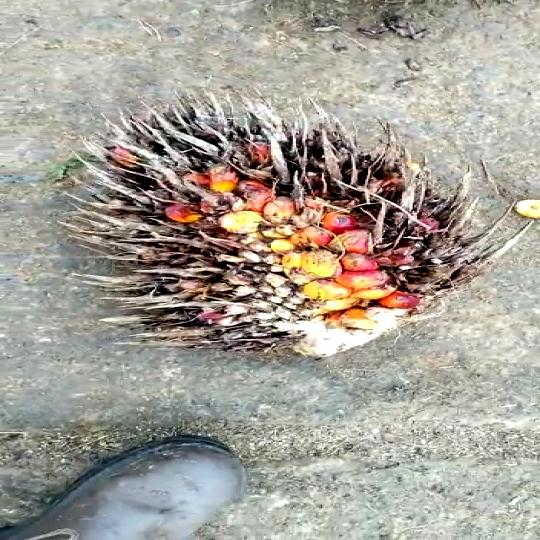terlalu masak: (65, 78, 540, 364)
